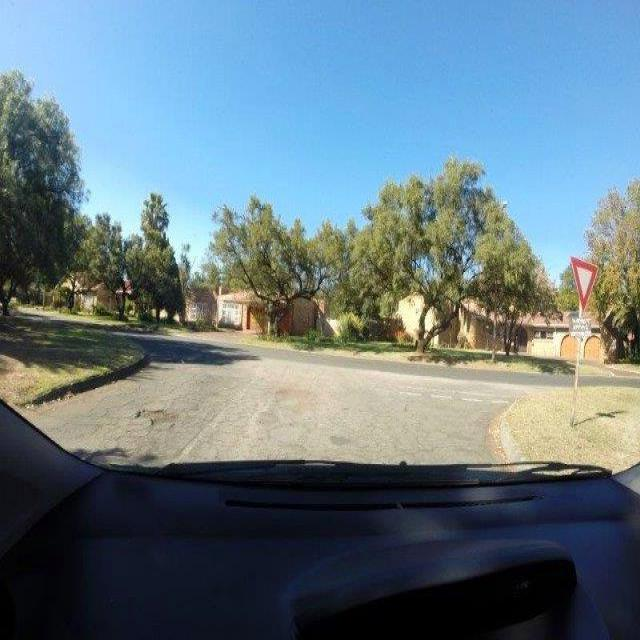jalan retak: (65, 379, 155, 442), (270, 383, 318, 420), (165, 369, 215, 403)
lubang: (130, 398, 182, 432)
